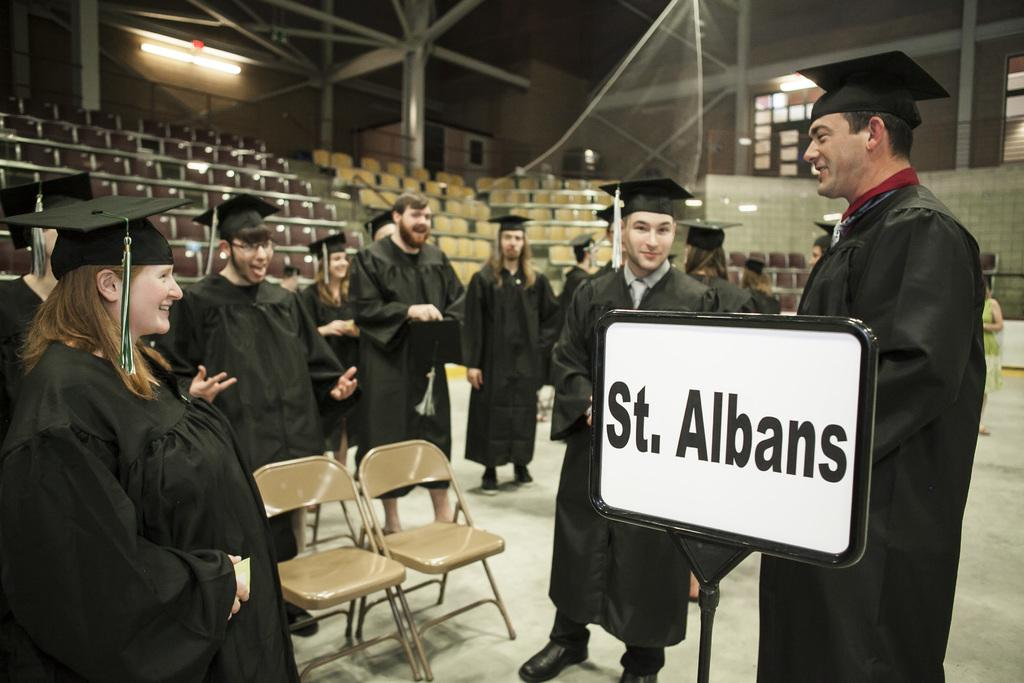Chair: (241, 456, 420, 682), (359, 438, 518, 682)
